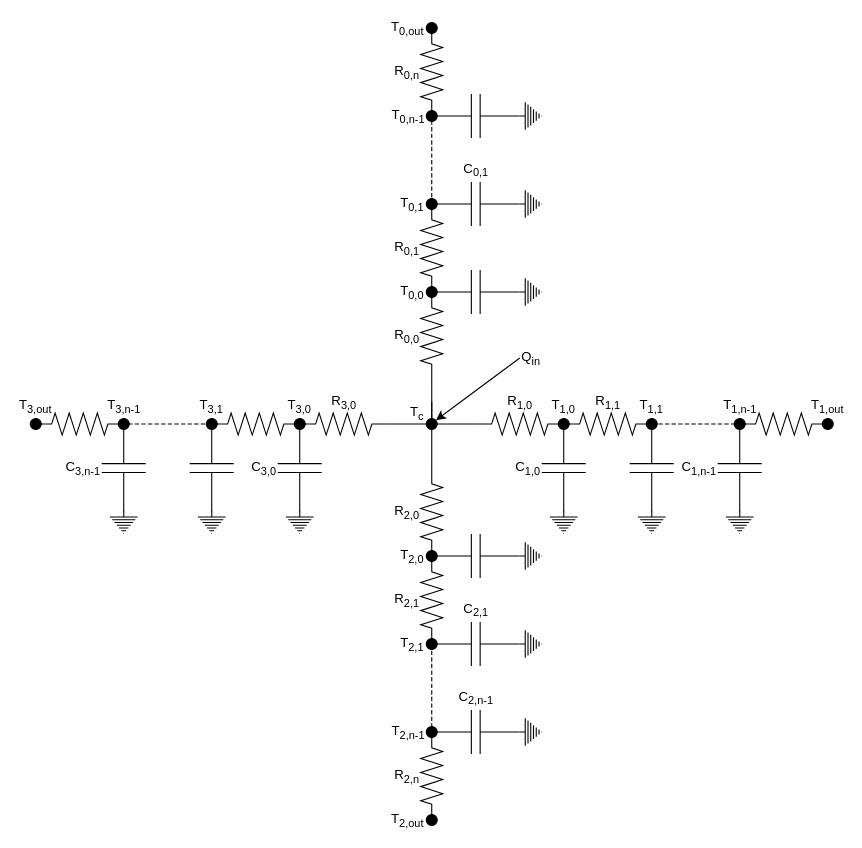
This 862x848 diagram has some shape labels left out. Here are the shapes that lost their labels. From the top down, the box of each, then its label:
(431, 93, 520, 138): C 0,n-1
(431, 269, 520, 314): C 0,0
(35, 412, 124, 435): R 3,n
(211, 412, 300, 435): R 3,1
(739, 412, 828, 435): R 1,n
(189, 423, 234, 512): C 3,1
(629, 423, 674, 512): C 1,1
(431, 533, 520, 578): C 2,0
